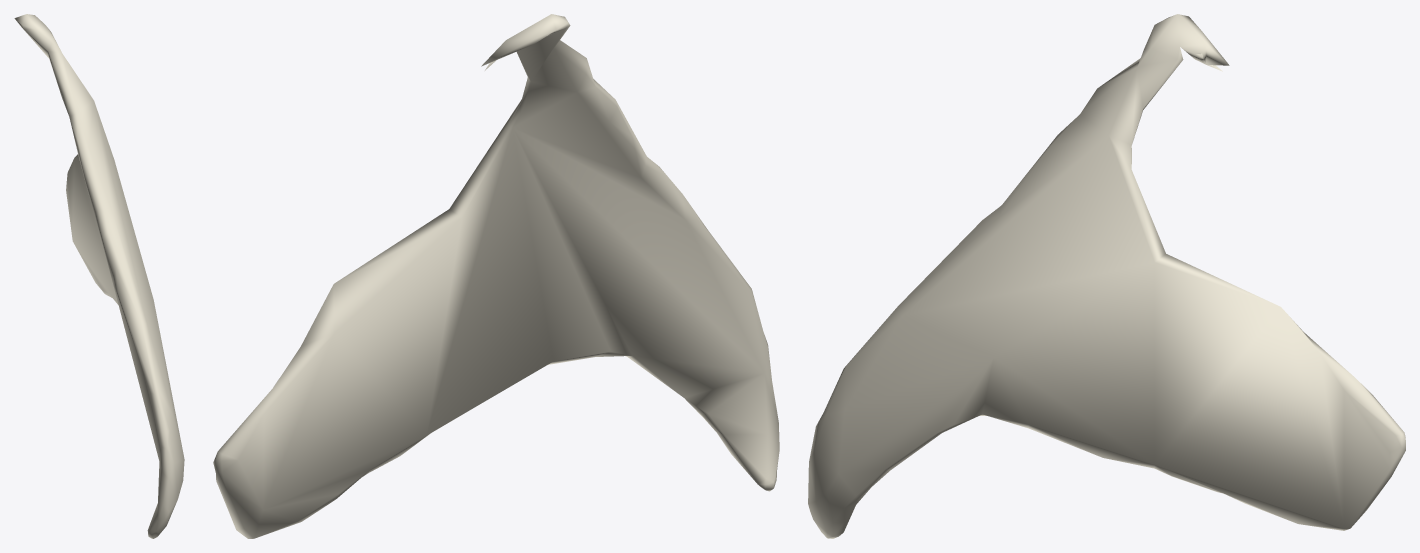
3 renders of one model, left to right at view 1: azimuth 30°, elevation 25°; view 2: azimuth 150°, elevation 25°; view 3: azimuth 270°, elevation 25°, orthographic. The views are drawn at different scales.
Visible parts, largest first — view 1: ZA_8ecd74e535547302; view 2: ZA_8ecd74e535547302; view 3: ZA_8ecd74e535547302.
Boxes of the visible parts, <box> form: ZA_8ecd74e535547302: <box>14,14,184,538</box>; ZA_8ecd74e535547302: <box>213,14,779,538</box>; ZA_8ecd74e535547302: <box>808,14,1405,538</box>.
Size of the model in its own units: 0.0132 by 0.033 by 0.0336.
